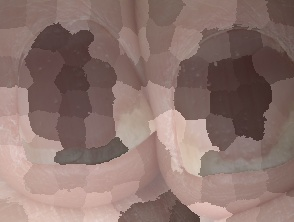Nail_psoriasis: (0, 0, 156, 182), (158, 0, 294, 190)
